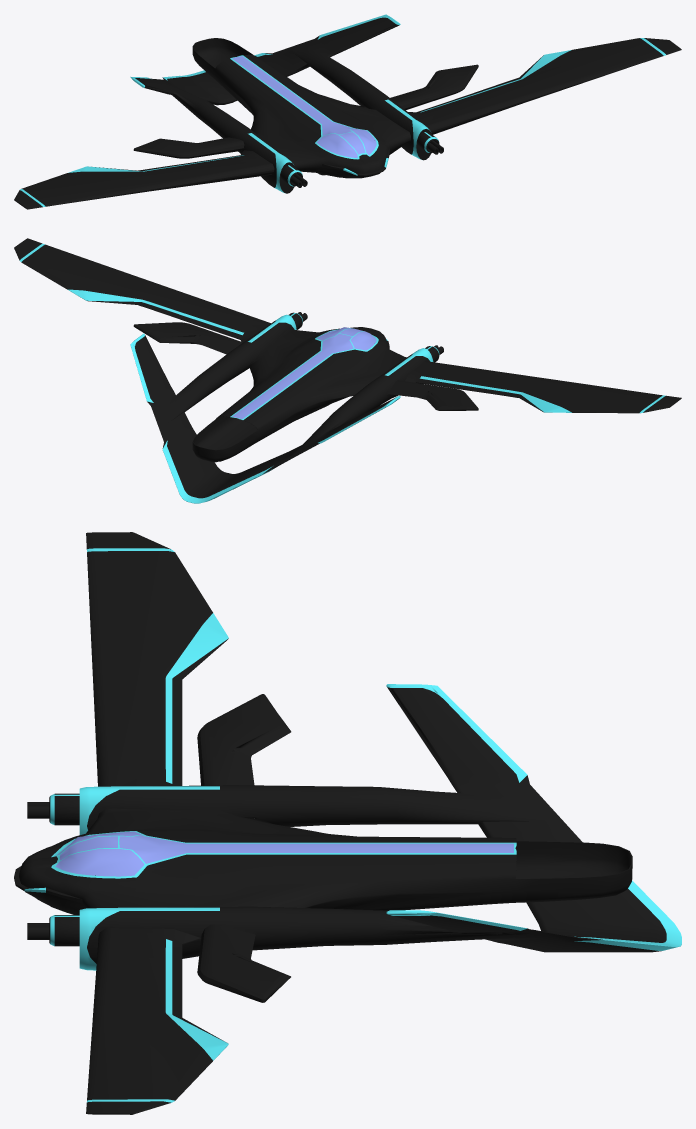
File: tron_light_jet_2p.FBX
3 views of the same model, one above another, from view 1: azimuth 30°, elevation 25°; view 2: azimuth 150°, elevation 25°; view 3: azimuth 270°, elevation 25° (orthographic). The views are drawn at different scales.
Parts seen in each view (by area): view 1: light_jet_2p001; view 2: light_jet_2p001; view 3: light_jet_2p001.
Part boxes in pixels (left/top/right/bottom): light_jet_2p001: left=14, top=14, right=681, bottom=209; light_jet_2p001: left=14, top=238, right=681, bottom=503; light_jet_2p001: left=14, top=532, right=681, bottom=1114.
Size of the model in its own units: 34.71 by 4.14 by 16.86.
